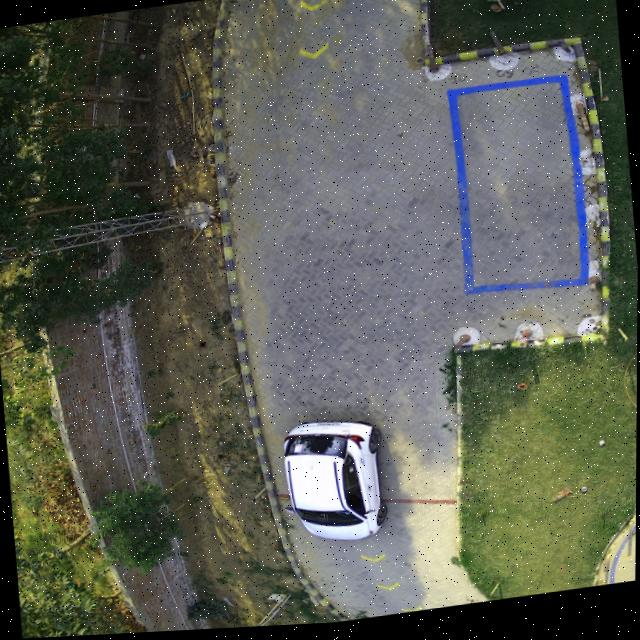car: (284, 423, 388, 543)
